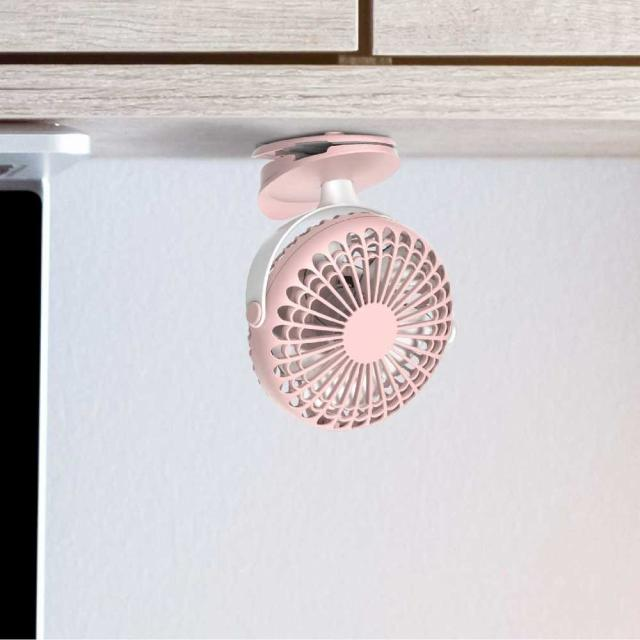fan: (243, 114, 460, 430)
